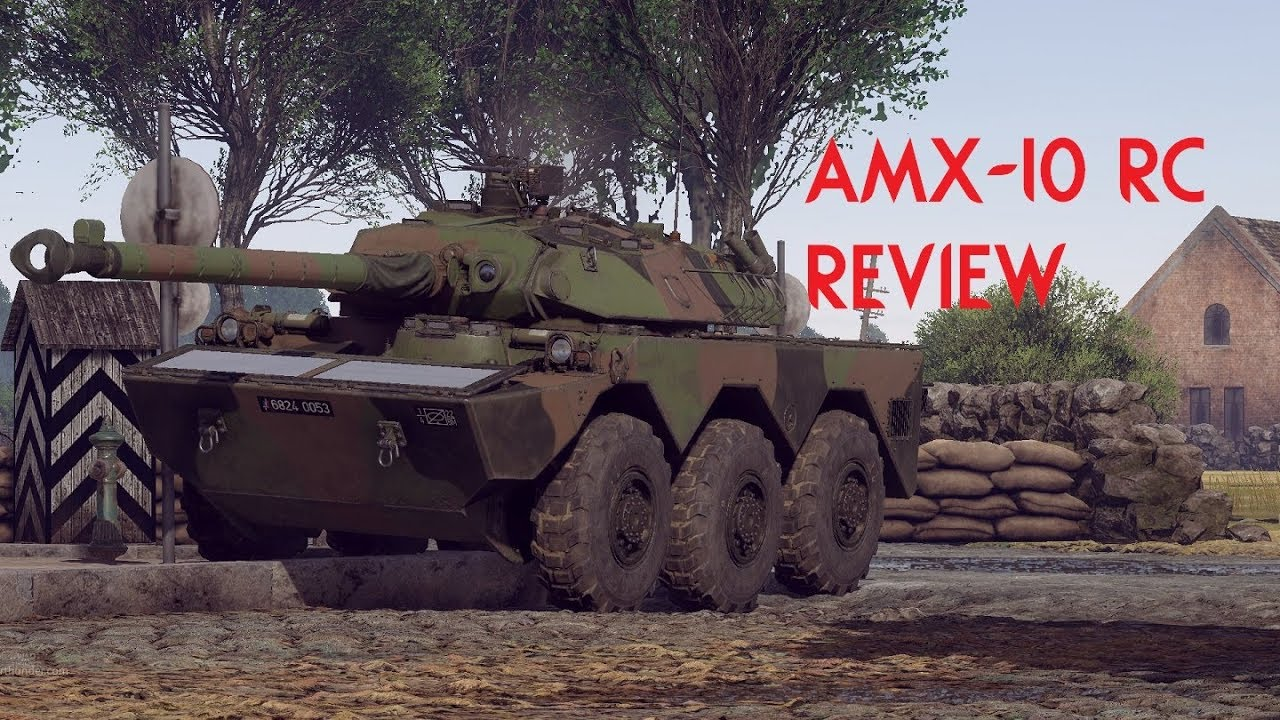license_plate: (259, 392, 342, 419)
